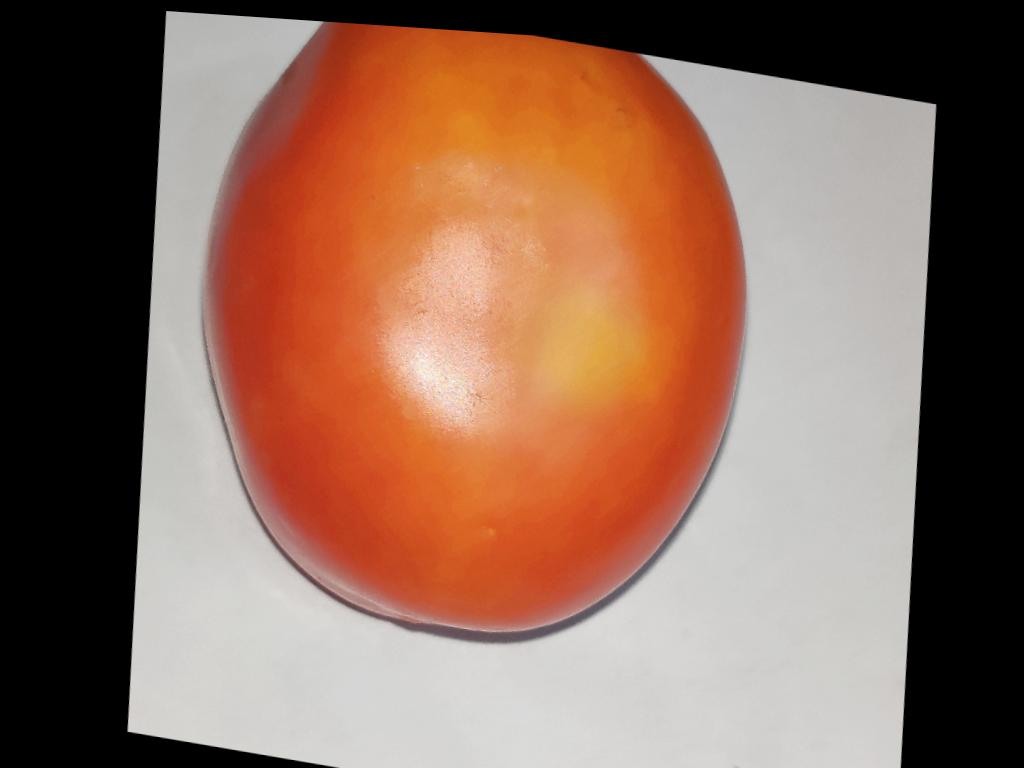tomato: (205, 22, 745, 631)
